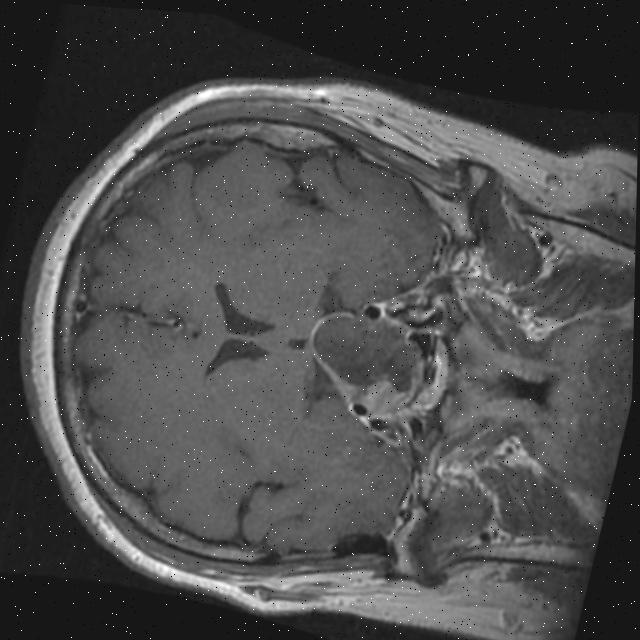Pituitary: (298, 296, 435, 416)
